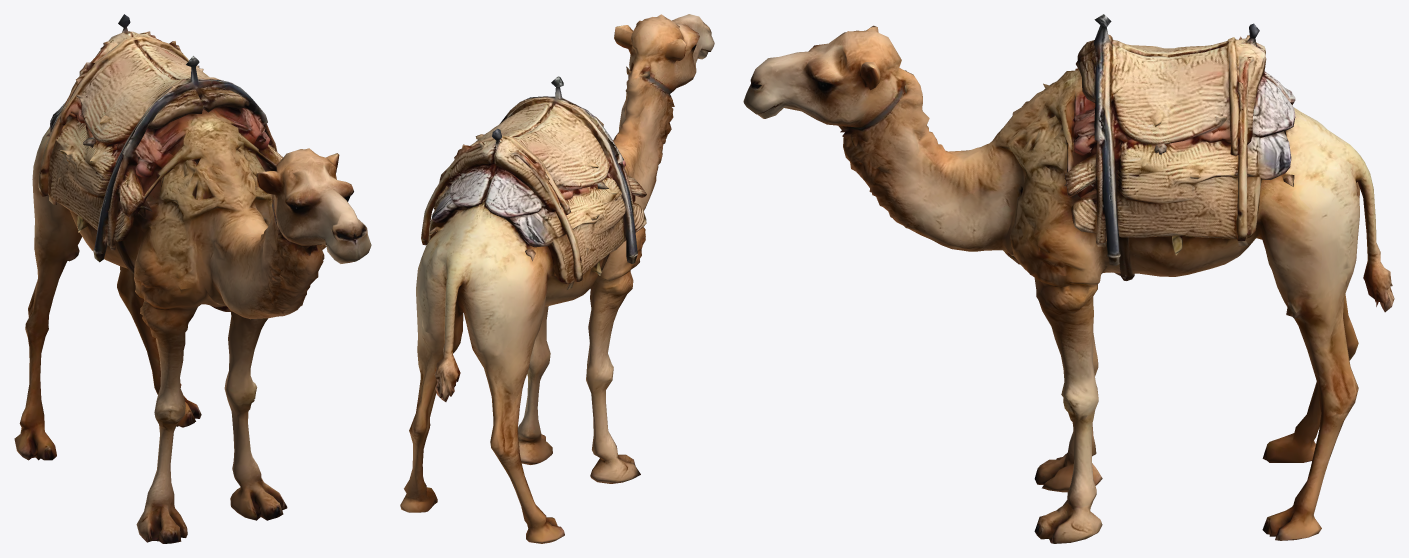
The model's file is camel.glb.
The picture shows the model from 3 angles, left to right: view 1: azimuth 30°, elevation 25°; view 2: azimuth 150°, elevation 25°; view 3: azimuth 270°, elevation 25°; orthographic projection. The views are drawn at different scales.
Parts seen in each view (by area): view 1: tripo_node_7da6cb08-ac62-4ffe-8af5-3ee6bc7b4480; view 2: tripo_node_7da6cb08-ac62-4ffe-8af5-3ee6bc7b4480; view 3: tripo_node_7da6cb08-ac62-4ffe-8af5-3ee6bc7b4480.
Part boxes in pixels (x1=…): tripo_node_7da6cb08-ac62-4ffe-8af5-3ee6bc7b4480: x1=14, y1=14, x2=371, y2=543; tripo_node_7da6cb08-ac62-4ffe-8af5-3ee6bc7b4480: x1=400, y1=14, x2=714, y2=543; tripo_node_7da6cb08-ac62-4ffe-8af5-3ee6bc7b4480: x1=743, y1=14, x2=1394, y2=543.
Bounding box in the file's own units: 0.366 × 0.837 × 1.
1 material, 1 textured.
